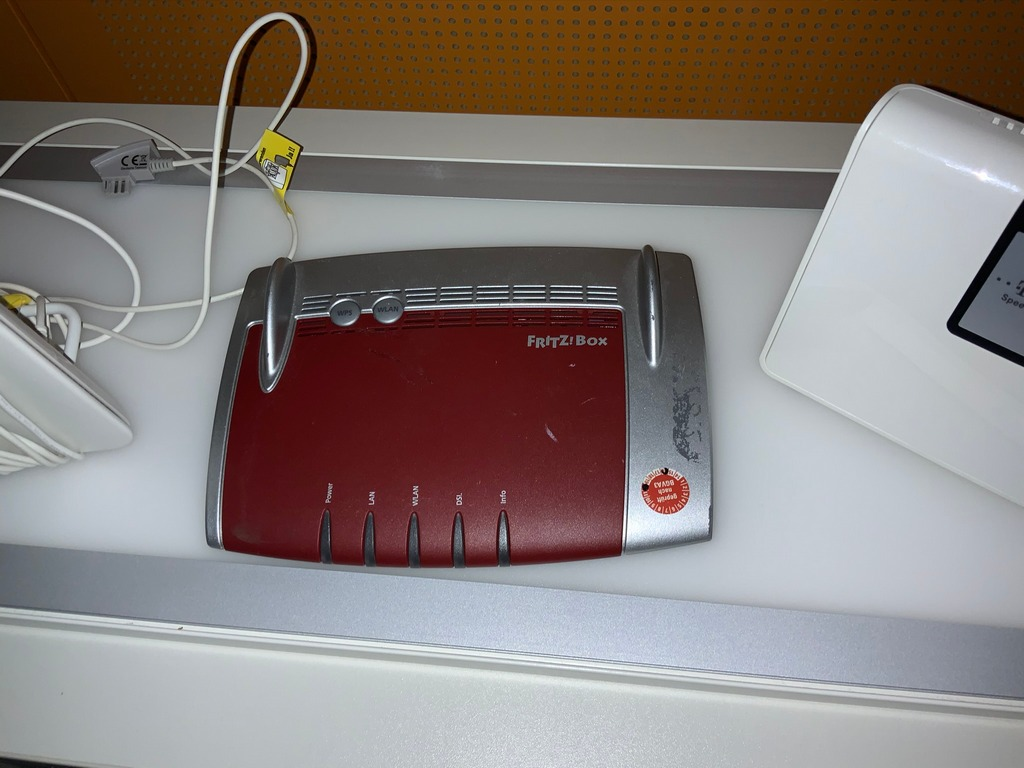Router2: (755, 75, 1024, 525)
router3: (208, 247, 716, 570)
